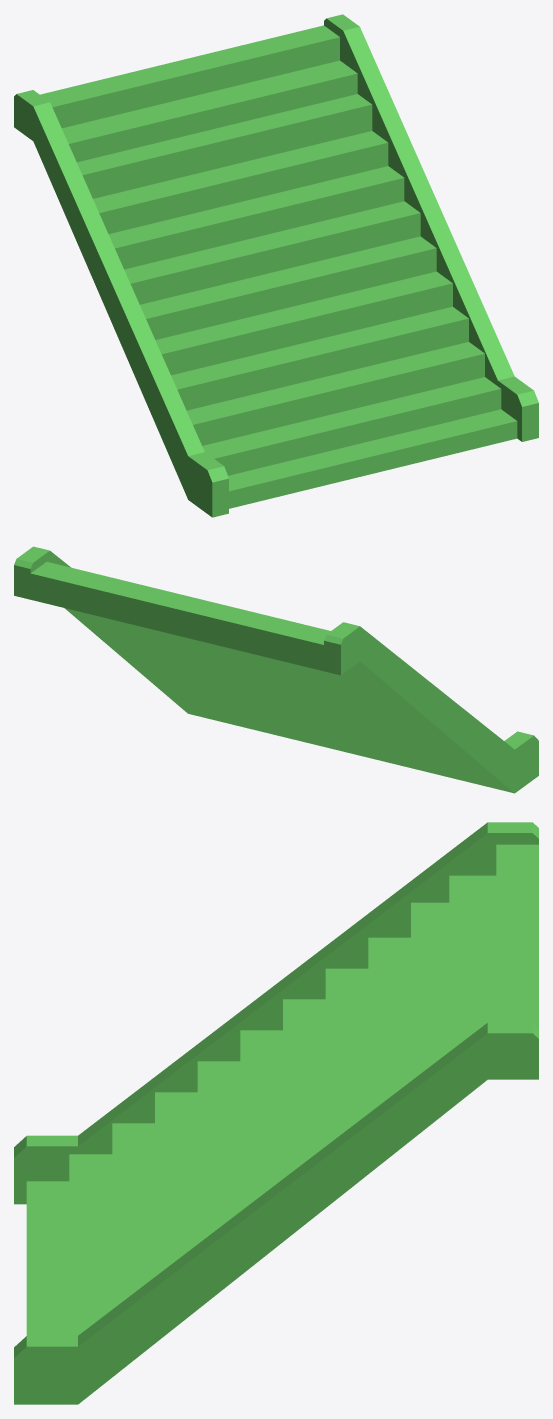
File: Gen_Staircase_Int.fbx
The picture shows the model from 3 angles, top to bottom: view 1: azimuth 30°, elevation 25°; view 2: azimuth 150°, elevation 25°; view 3: azimuth 270°, elevation 25°; orthographic projection. The views are drawn at different scales.
Visible parts, largest first — view 1: Gen_Staircase_Int; view 2: Gen_Staircase_Int; view 3: Gen_Staircase_Int.
Boxes of the visible parts, x1,y1,x2,y2 form: Gen_Staircase_Int: (14,14,538,517); Gen_Staircase_Int: (14,546,538,793); Gen_Staircase_Int: (14,822,538,1404).
Size of the model in its own units: 293 by 240 by 308.
